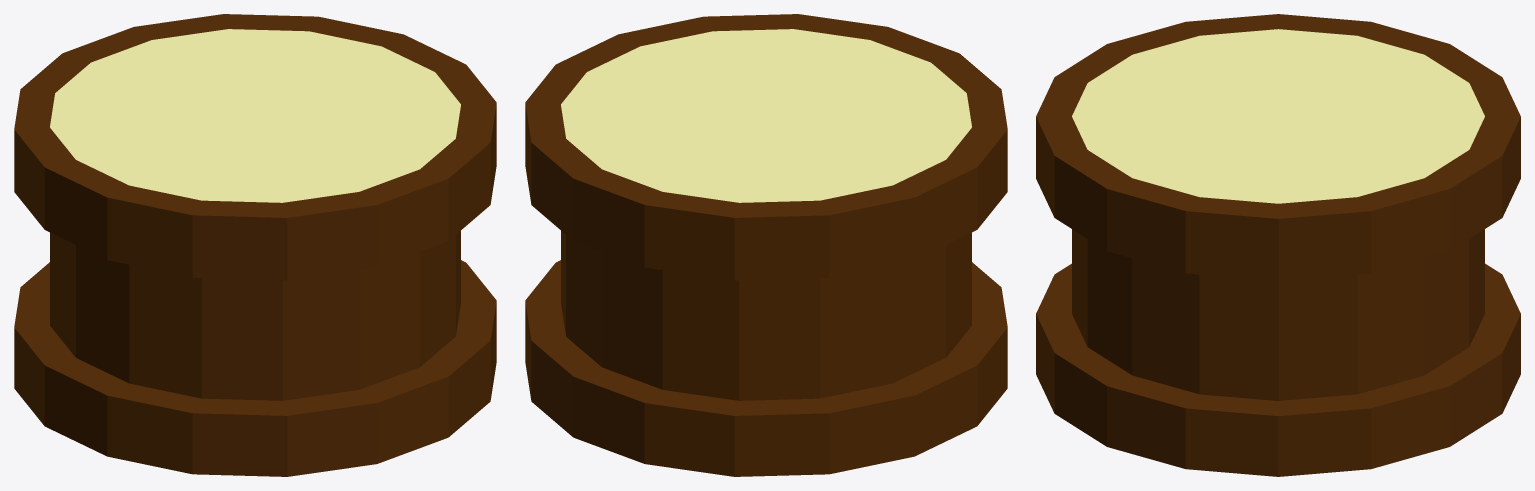
Rendered from tambor.fbx.
3 views of the same model, side by side, from view 1: azimuth 30°, elevation 25°; view 2: azimuth 150°, elevation 25°; view 3: azimuth 270°, elevation 25° (orthographic).
Parts seen in each view (by area): view 1: Cylinder; view 2: Cylinder; view 3: Cylinder.
Part boxes in pixels (bbox=[...]): Cylinder: bbox=[14, 14, 496, 476]; Cylinder: bbox=[525, 14, 1007, 476]; Cylinder: bbox=[1036, 14, 1520, 476].
Bounding box in the file's own units: 58.66 × 34.45 × 58.66.
